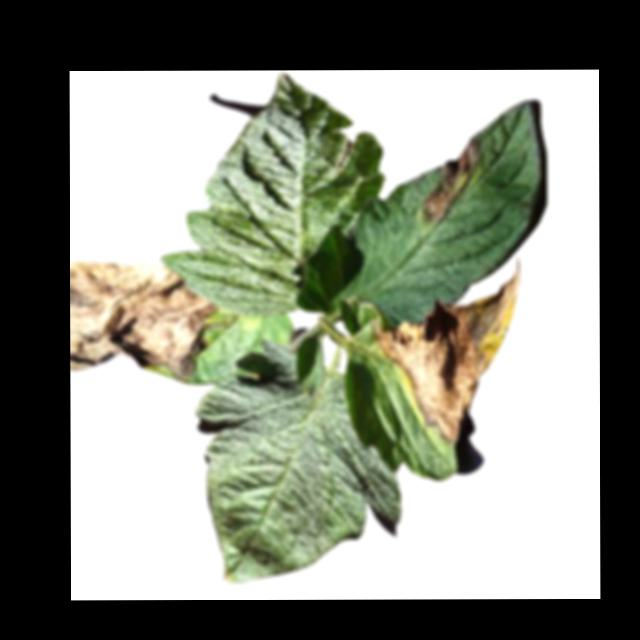Late_blight: (370, 258, 519, 445), (70, 257, 216, 384), (422, 138, 480, 221)
